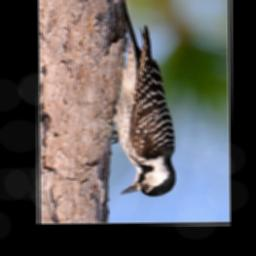Woodpecker: (105, 0, 180, 202)
